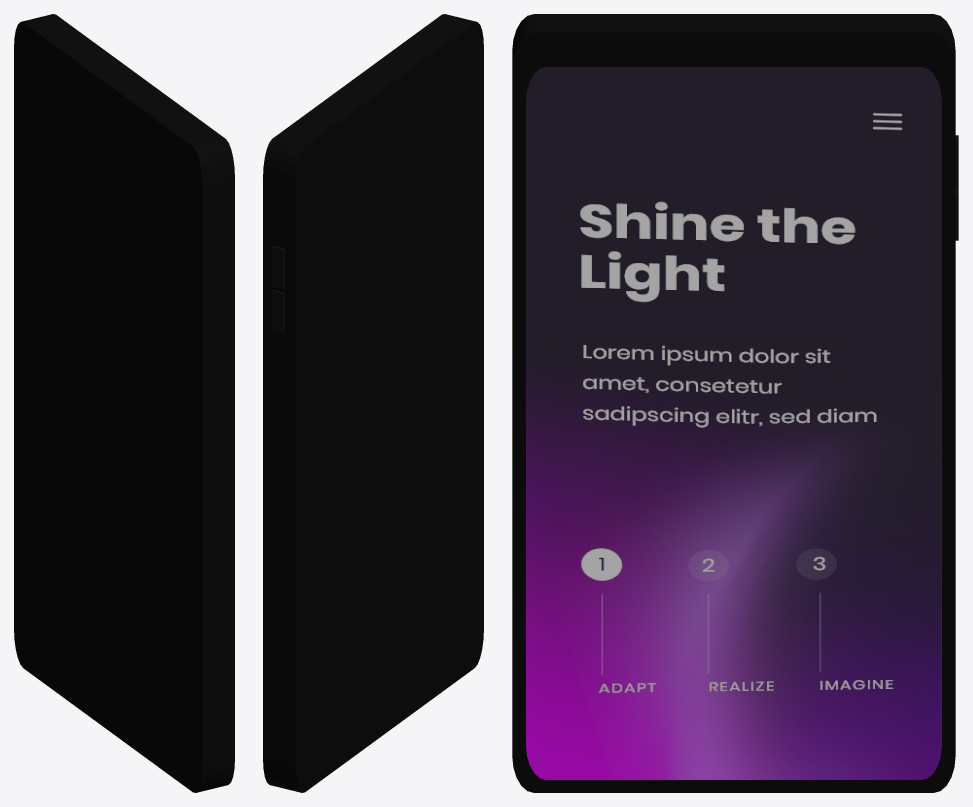
File: phone2.glb
3 renders of one model, left to right at view 1: azimuth 30°, elevation 25°; view 2: azimuth 150°, elevation 25°; view 3: azimuth 270°, elevation 25°, orthographic. The views are drawn at different scales.
Visible parts, largest first — view 1: Кнопки; view 2: Кнопки; view 3: Кнопки.
Part boxes in pixels (box(x1,y1,x2,y2)): Кнопки: box(14, 14, 234, 792); Кнопки: box(263, 14, 483, 792); Кнопки: box(512, 14, 958, 792).
Bounding box in the file's own units: 0.2002 × 3.78 × 2.01.
Materials: 3 (1 with a texture image).
